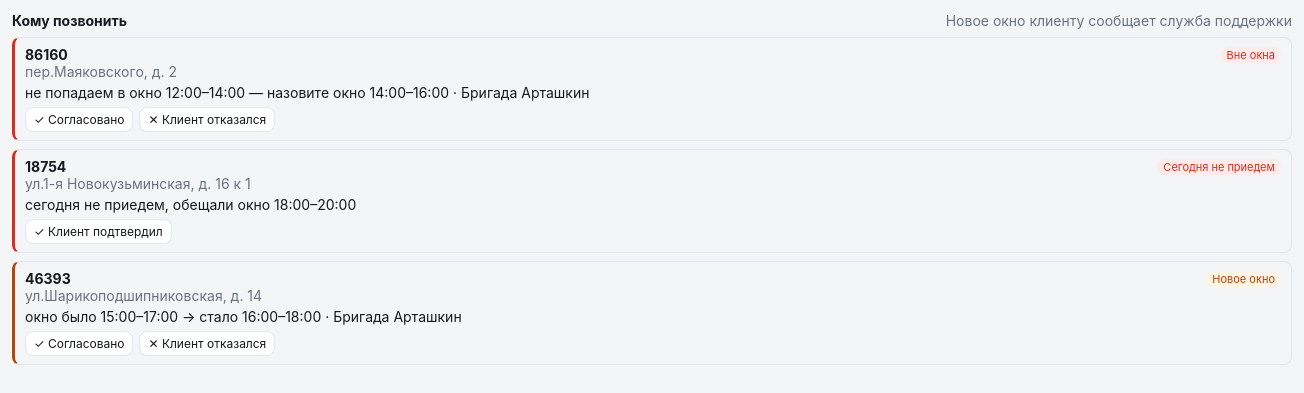
Test case: CommunicationsTab › remembers «сегодня не приедем» for a client who is left without a visit
Click the button "✓ Клиент подтвердил": (98, 232) [25, 219, 172, 244]
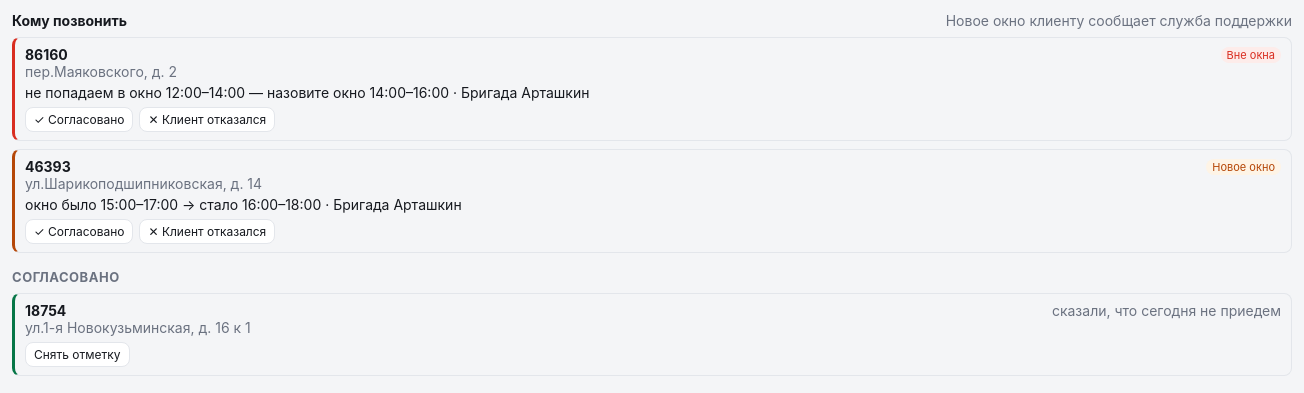
Now the text "сказали, что сегодня не приедем" is shown, box [1052, 302, 1281, 319]
